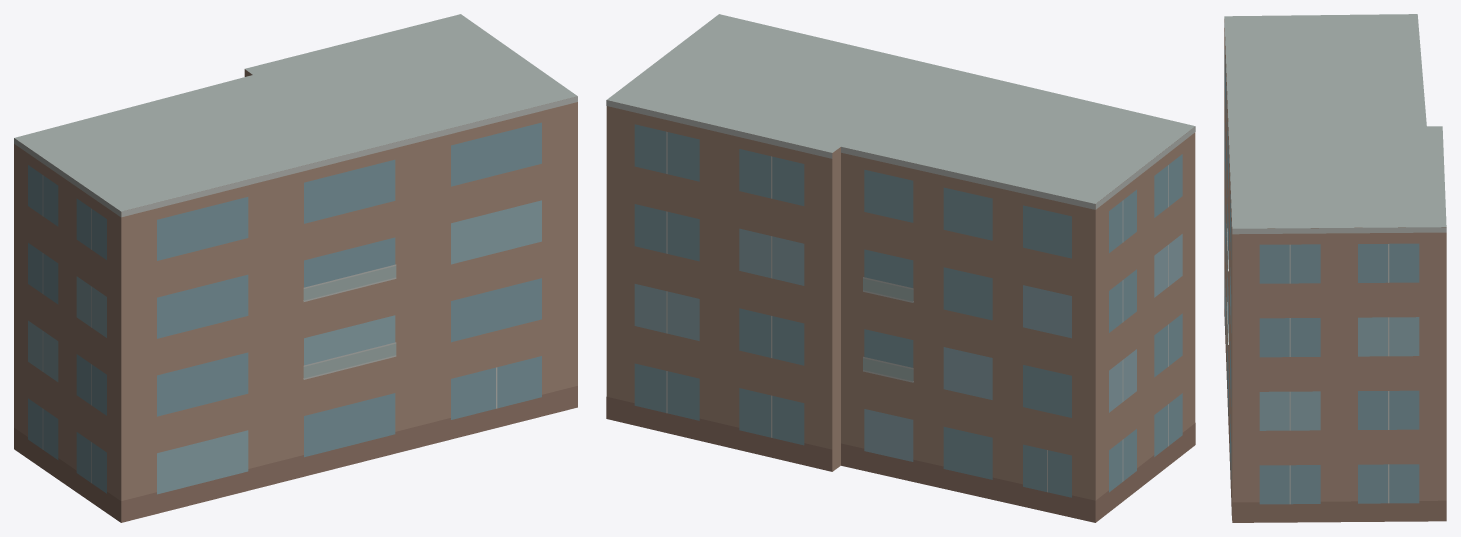
File: survey-upis-32619759.glb
3 renders of one model, left to right at view 1: azimuth 30°, elevation 25°; view 2: azimuth 150°, elevation 25°; view 3: azimuth 270°, elevation 25°, orthographic. The views are drawn at different scales.
Visible parts, largest first — view 1: survey-upis-32619759.tmp; view 2: survey-upis-32619759.tmp; view 3: survey-upis-32619759.tmp.
Part boxes in pixels (x1,y1,x2,y2): survey-upis-32619759.tmp: (14,14,577,522); survey-upis-32619759.tmp: (606,14,1195,522); survey-upis-32619759.tmp: (1224,14,1446,522).
Size of the model in its own units: 20.52 by 13.1 by 8.98.
